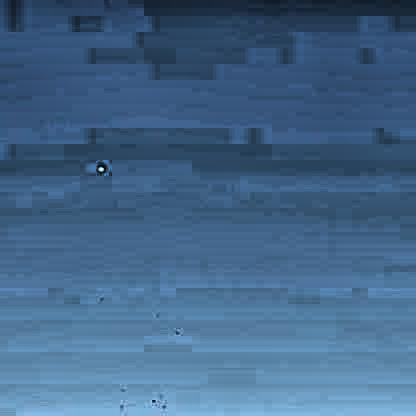golfball: (95, 160, 103, 170)
